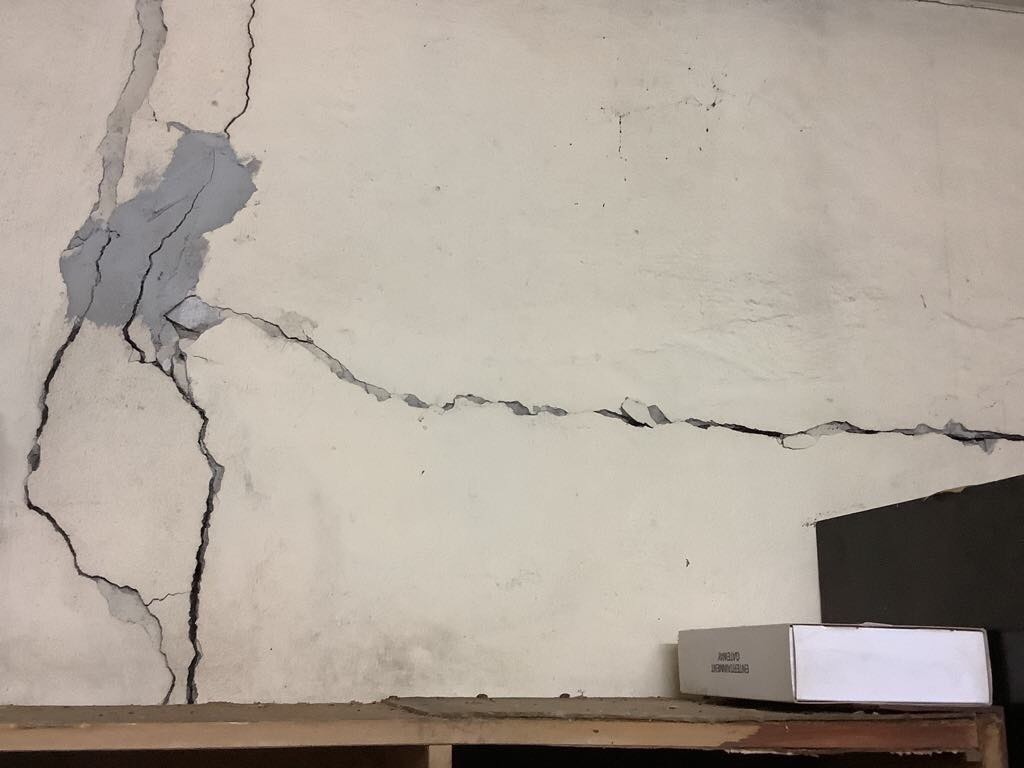High: (12, 2, 1022, 628)
